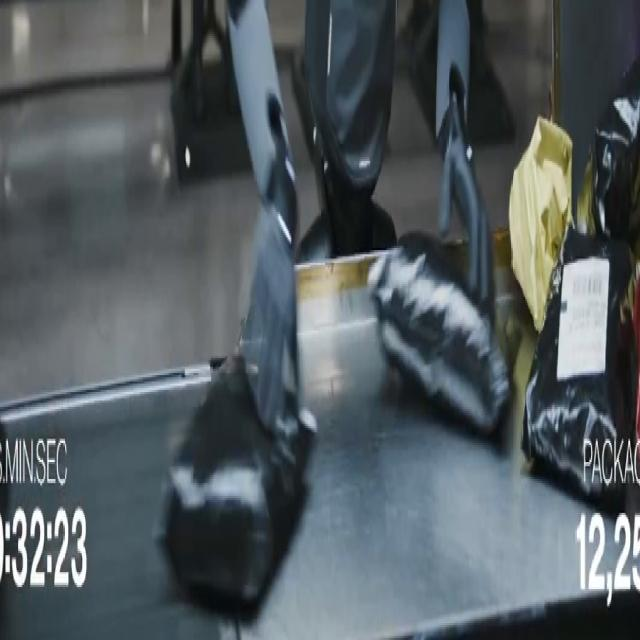package: (157, 354, 315, 603), (522, 227, 637, 498), (369, 234, 510, 434), (509, 117, 572, 330), (592, 60, 639, 250), (576, 157, 596, 235), (0, 462, 9, 536), (0, 475, 9, 523)
